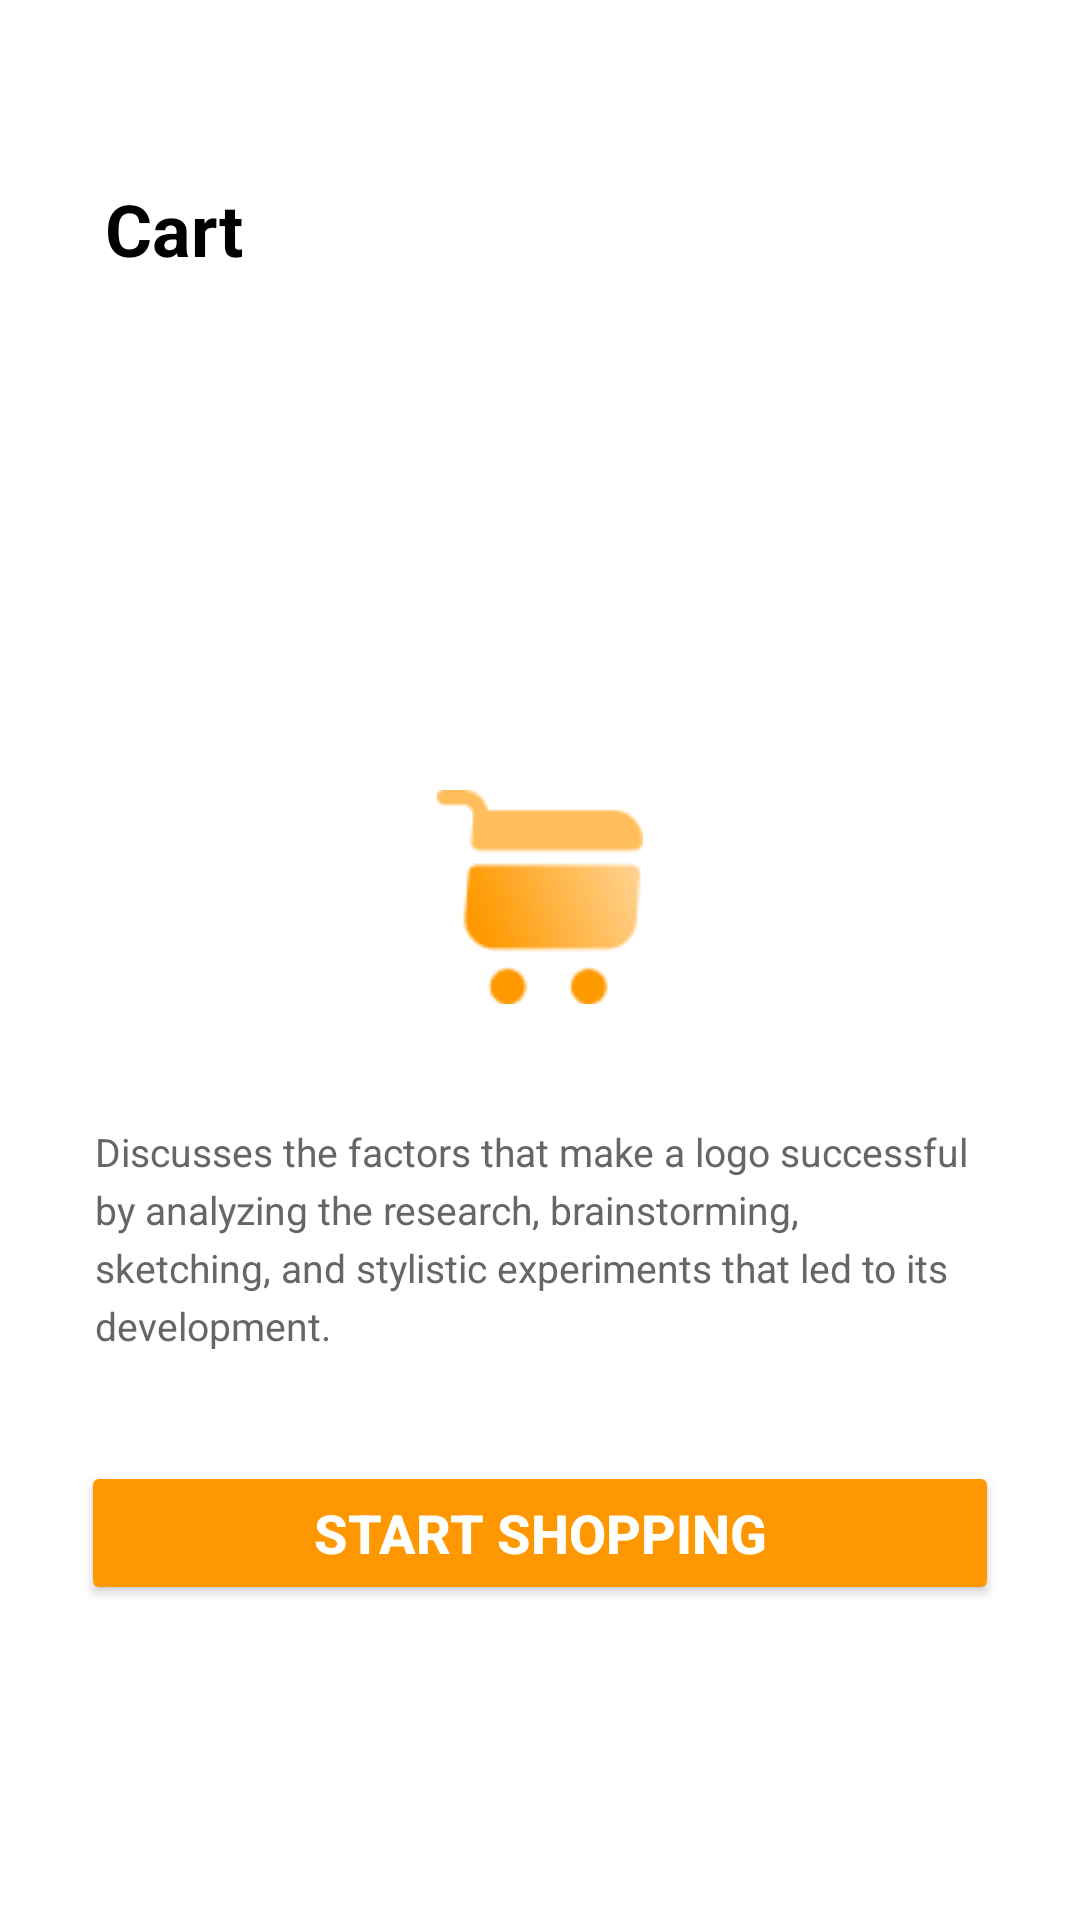

Where to tap for icons on this 1080 × 1920 app screen, as [x,y]:
shopping cart: [540,897]
